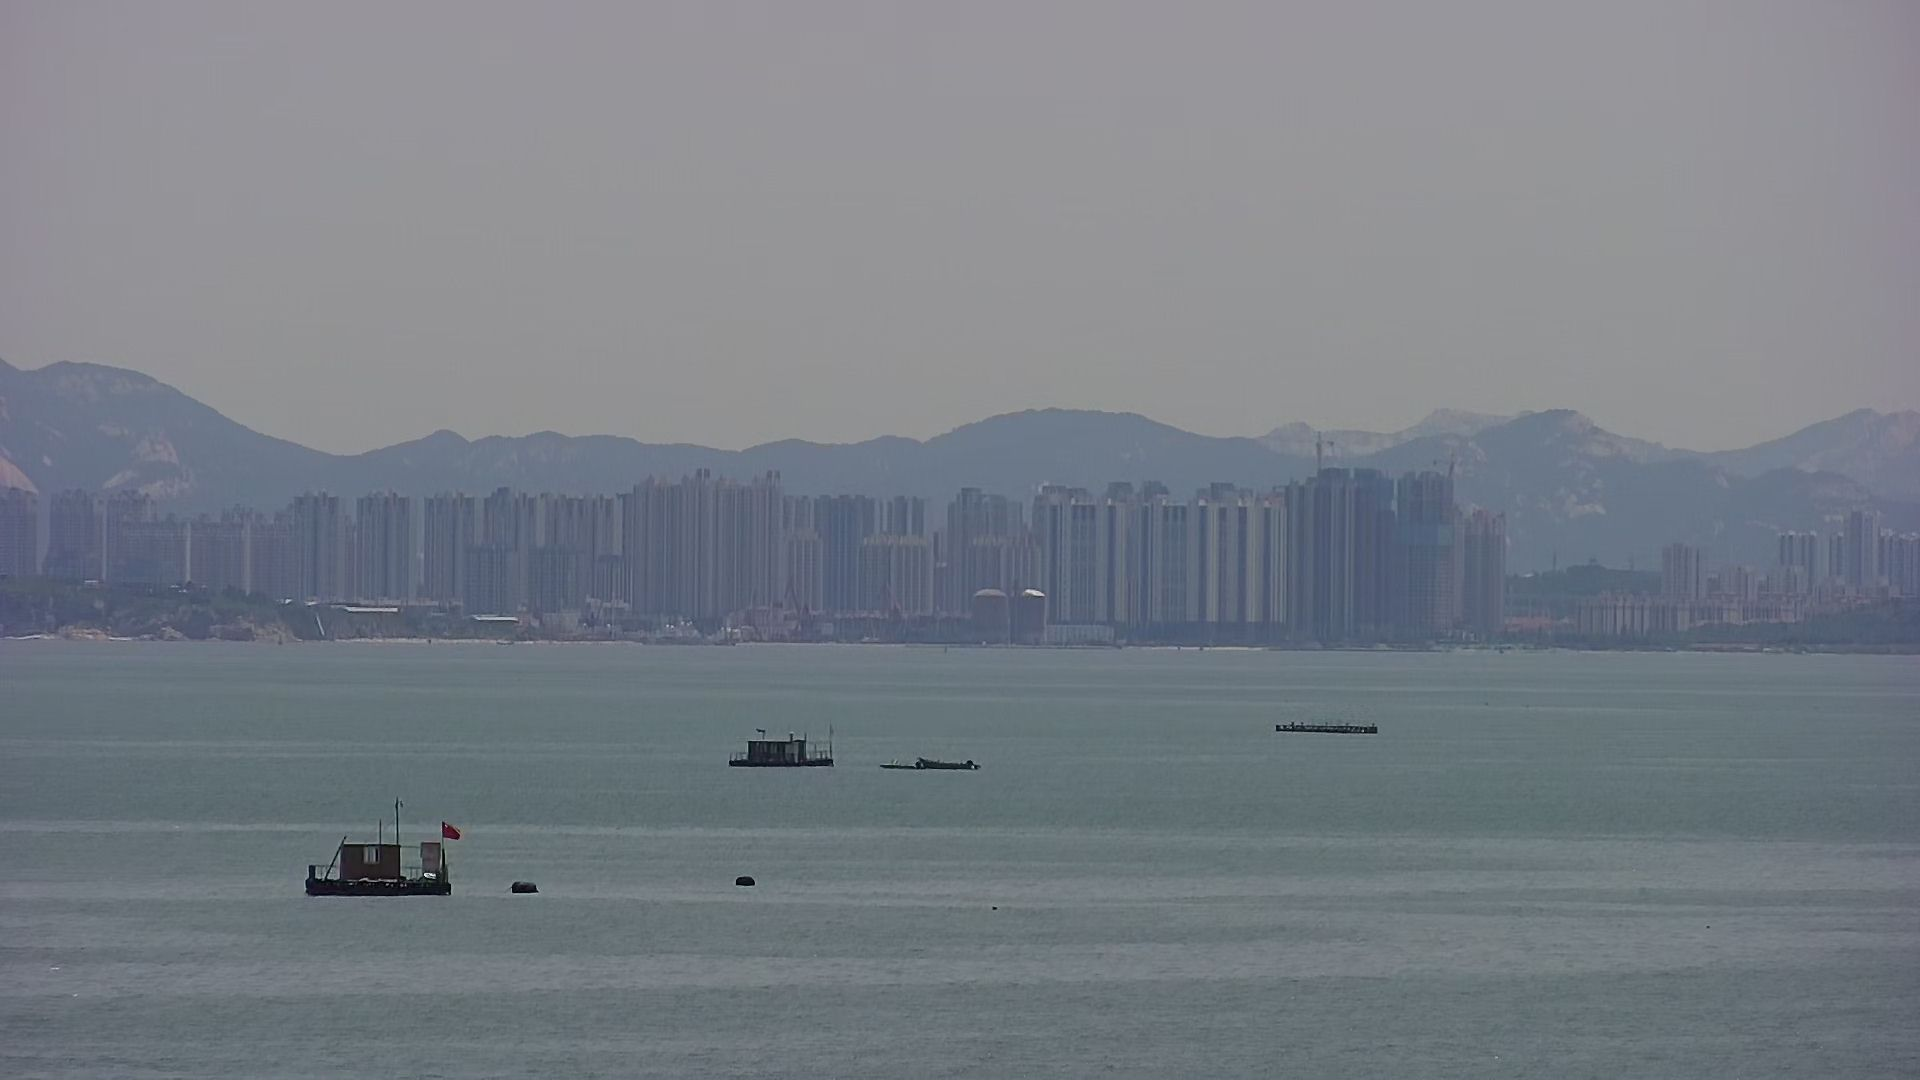ball: (510, 872, 541, 899), (731, 865, 760, 889)
platform: (305, 795, 462, 898), (723, 723, 840, 769), (1276, 717, 1381, 738)
rubbish: (877, 754, 992, 771)
